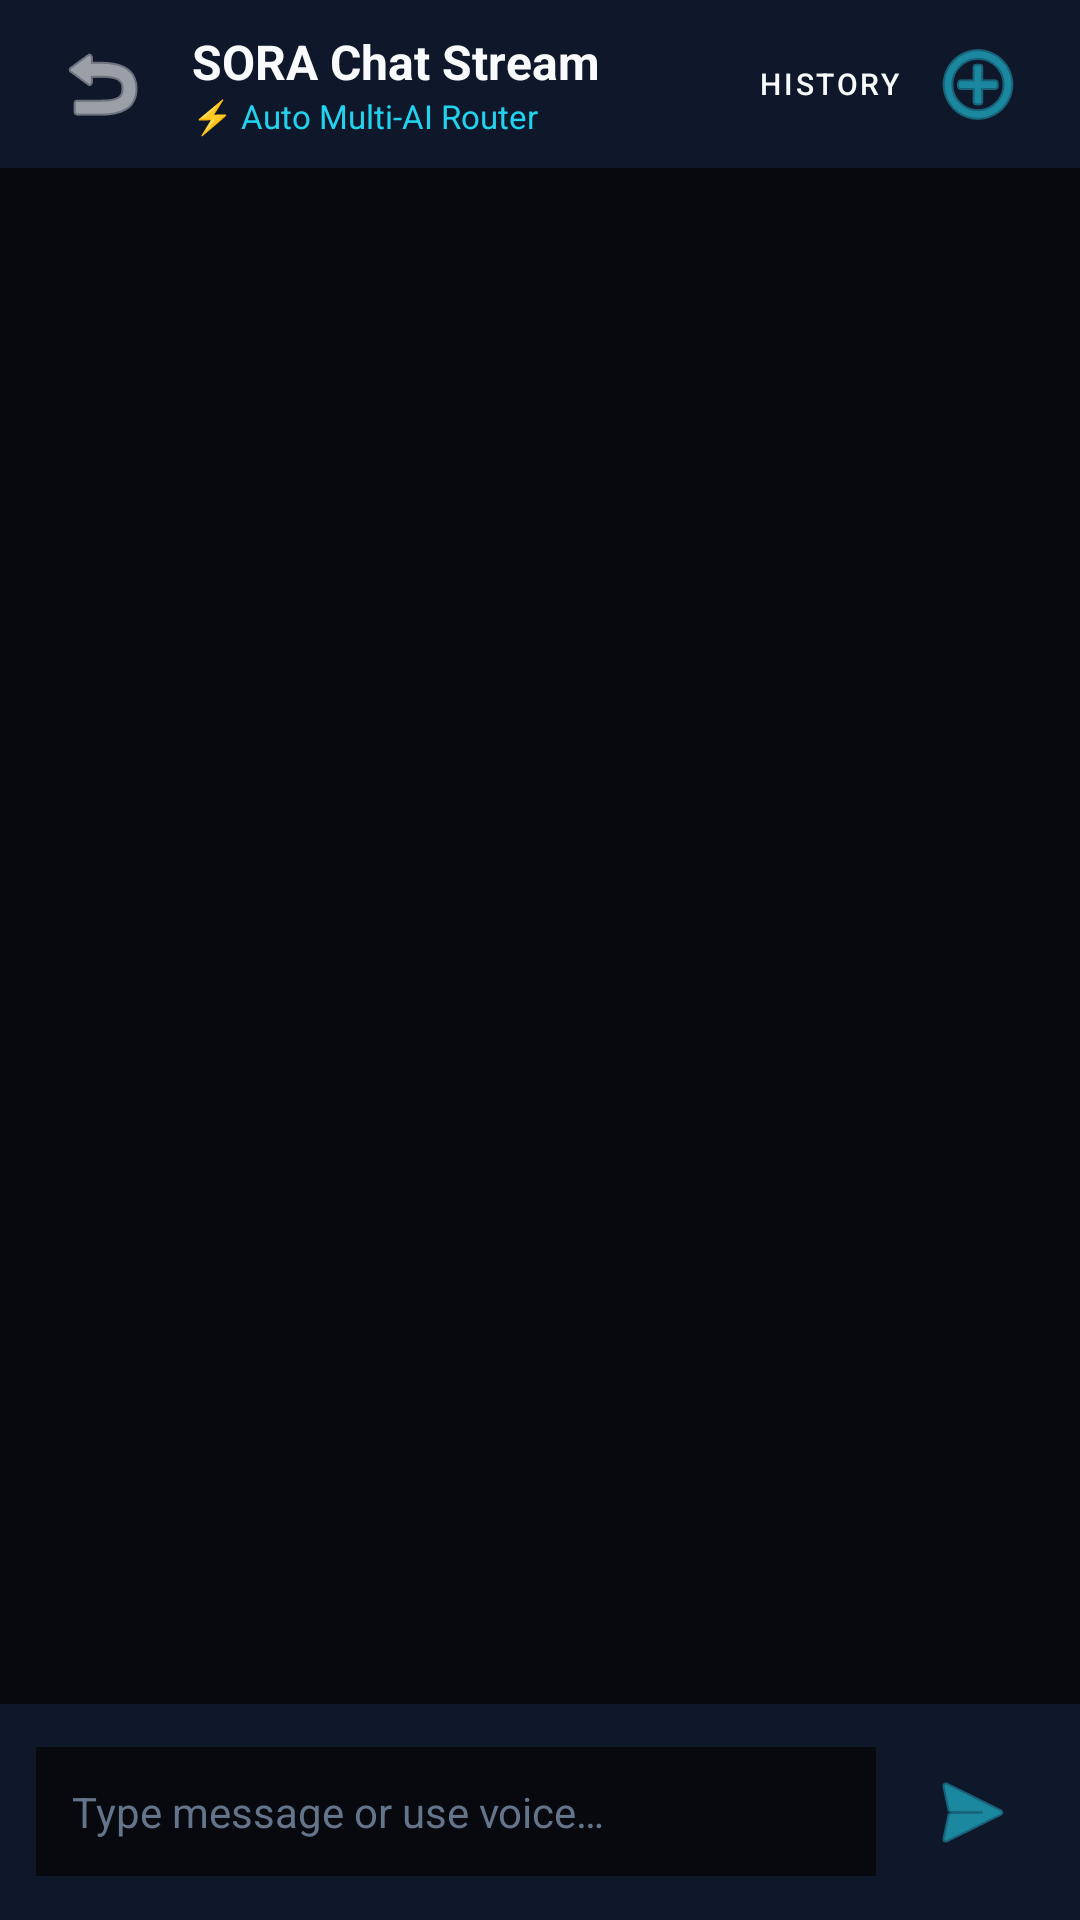

Screen size 1080×1920. Icon name, then its box in pixels as (x1, y1, x2, y2):
add: (942, 49, 1014, 120)
revert: (69, 53, 138, 116)
send: (942, 1782, 1004, 1843)
